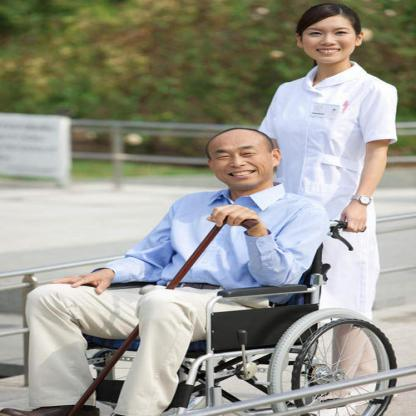wheelchair: (18, 119, 396, 416)
